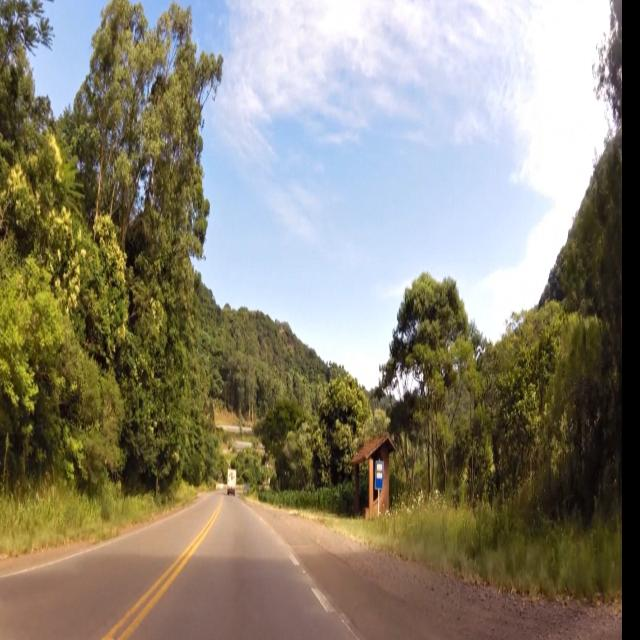S-14: (376, 458, 384, 494)
